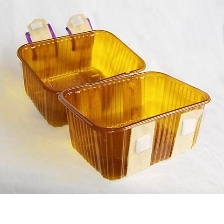plastic_box: (10, 8, 216, 186)
